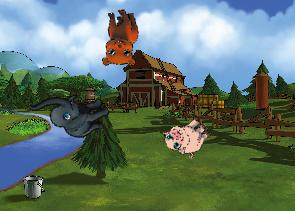bear: (93, 6, 143, 70)
elephant: (27, 72, 115, 154)
pig: (159, 108, 215, 164)
